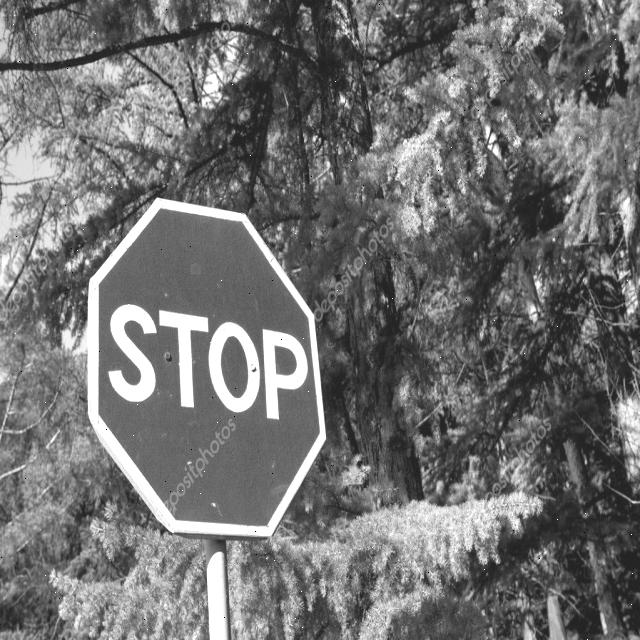Stop-sign: (70, 172, 343, 560)
